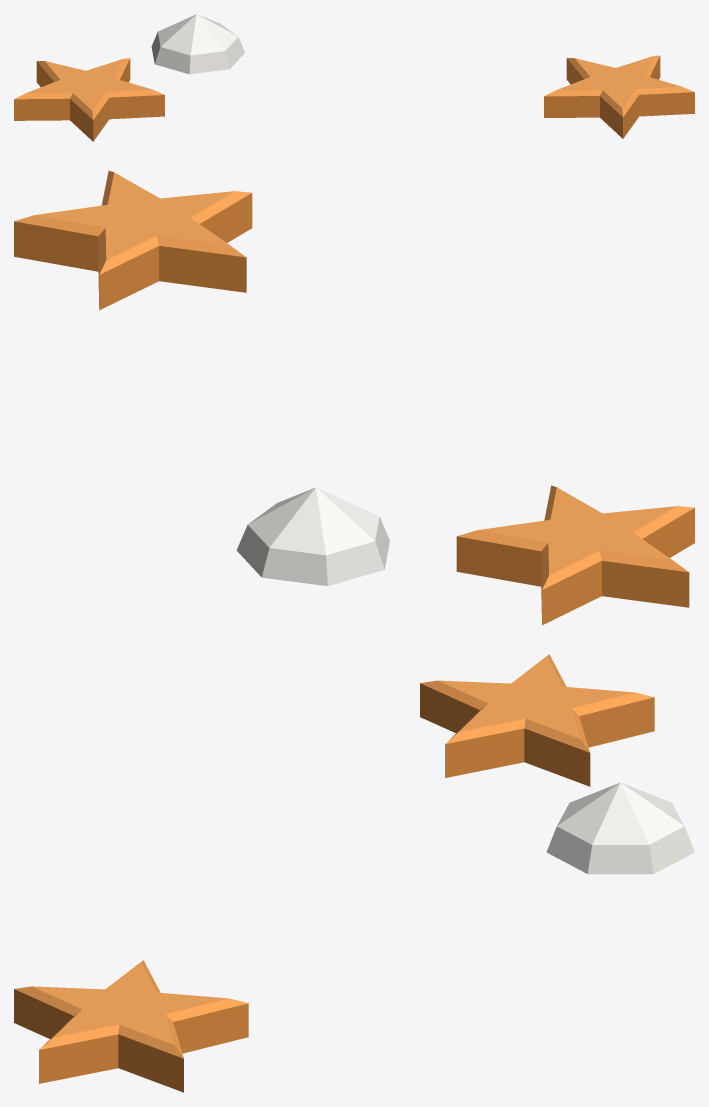
Rendered from BeachBits_0.glb.
3 views of the same model, one above another, from view 1: azimuth 30°, elevation 25°; view 2: azimuth 150°, elevation 25°; view 3: azimuth 270°, elevation 25° (orthographic). The views are drawn at different scales.
Visible parts, largest first — view 1: BeachBits_0; view 2: BeachBits_0; view 3: BeachBits_0.
Part boxes in pixels (x1,y1,x2,y2): BeachBits_0: (14, 14, 694, 141); BeachBits_0: (14, 170, 694, 625); BeachBits_0: (14, 654, 694, 1092).
Size of the model in its own units: 6.91 by 0.5 by 4.92.
Materials: 1 (1 with a texture image).
